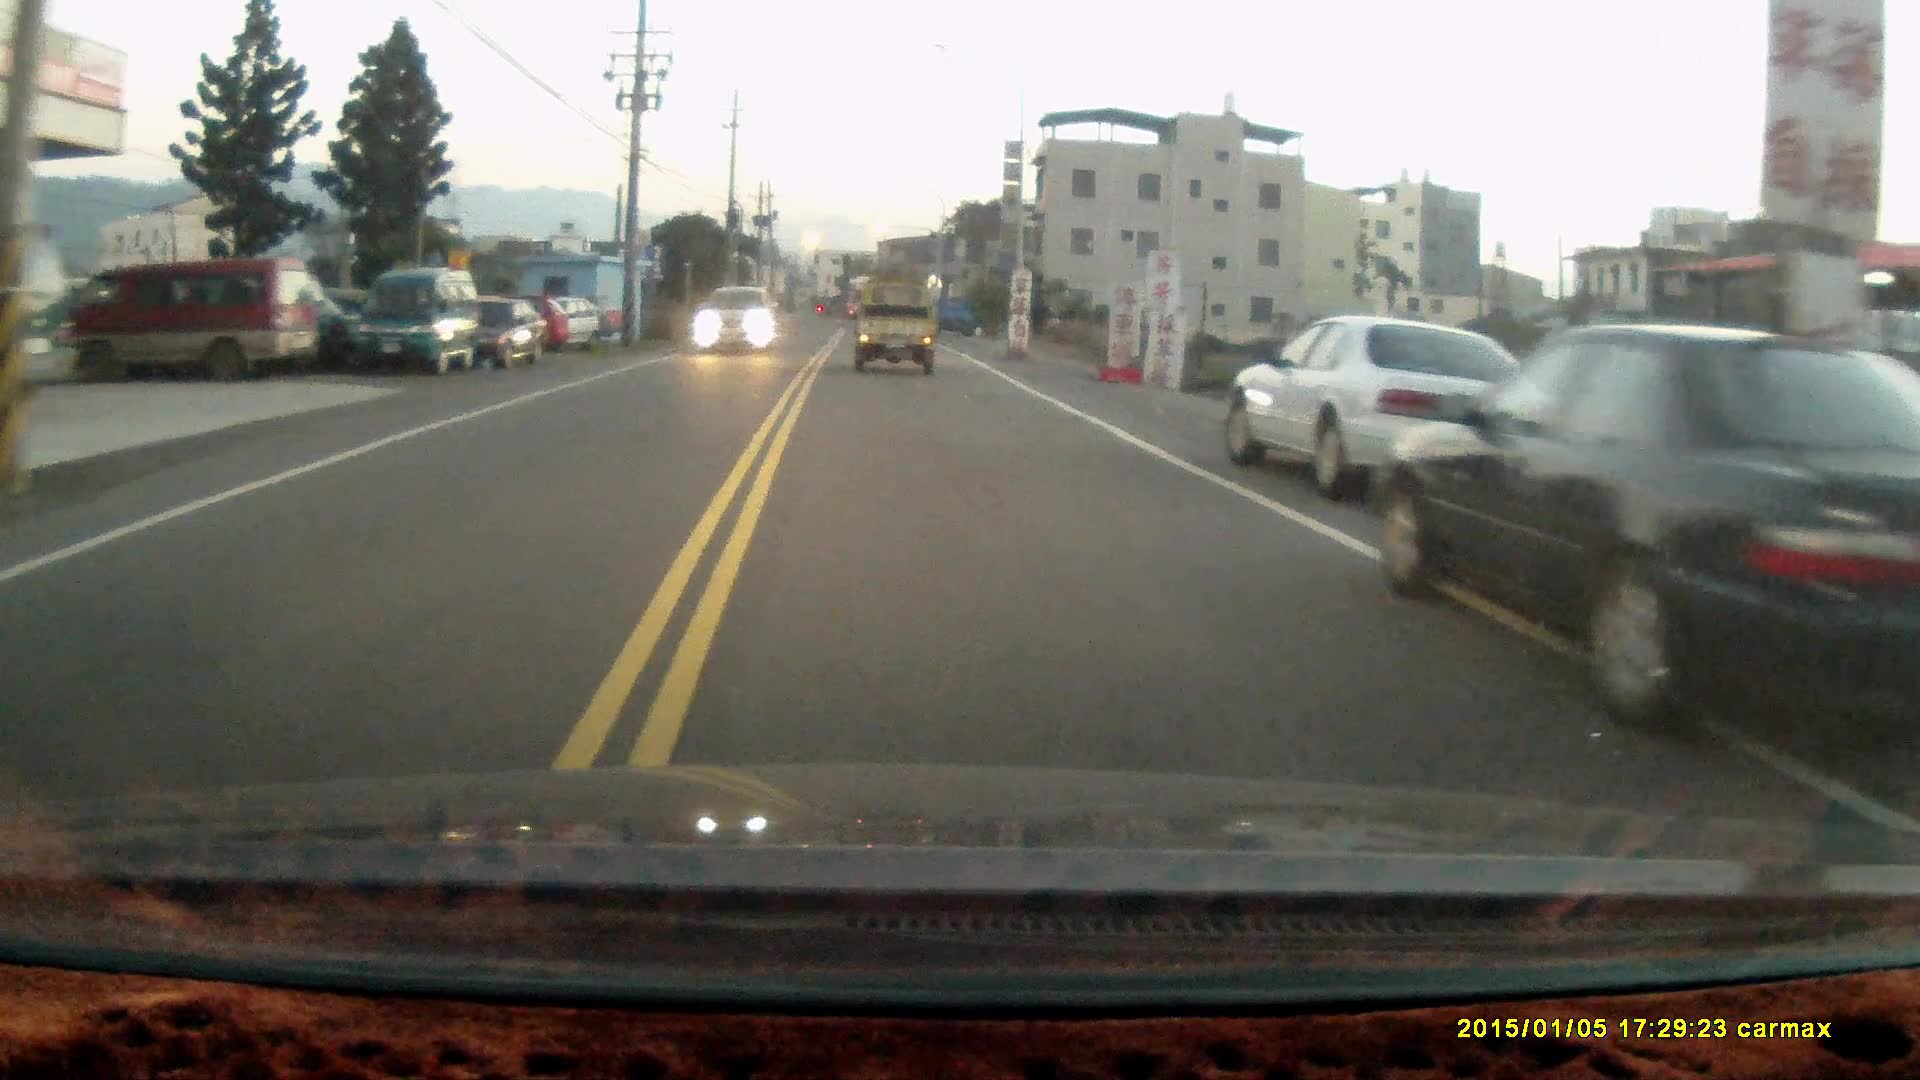vehicle: (1383, 322, 1898, 789), (1222, 316, 1536, 495), (42, 256, 311, 381), (352, 266, 484, 377), (0, 244, 83, 396), (856, 281, 938, 372), (472, 295, 549, 376), (692, 284, 779, 353)
